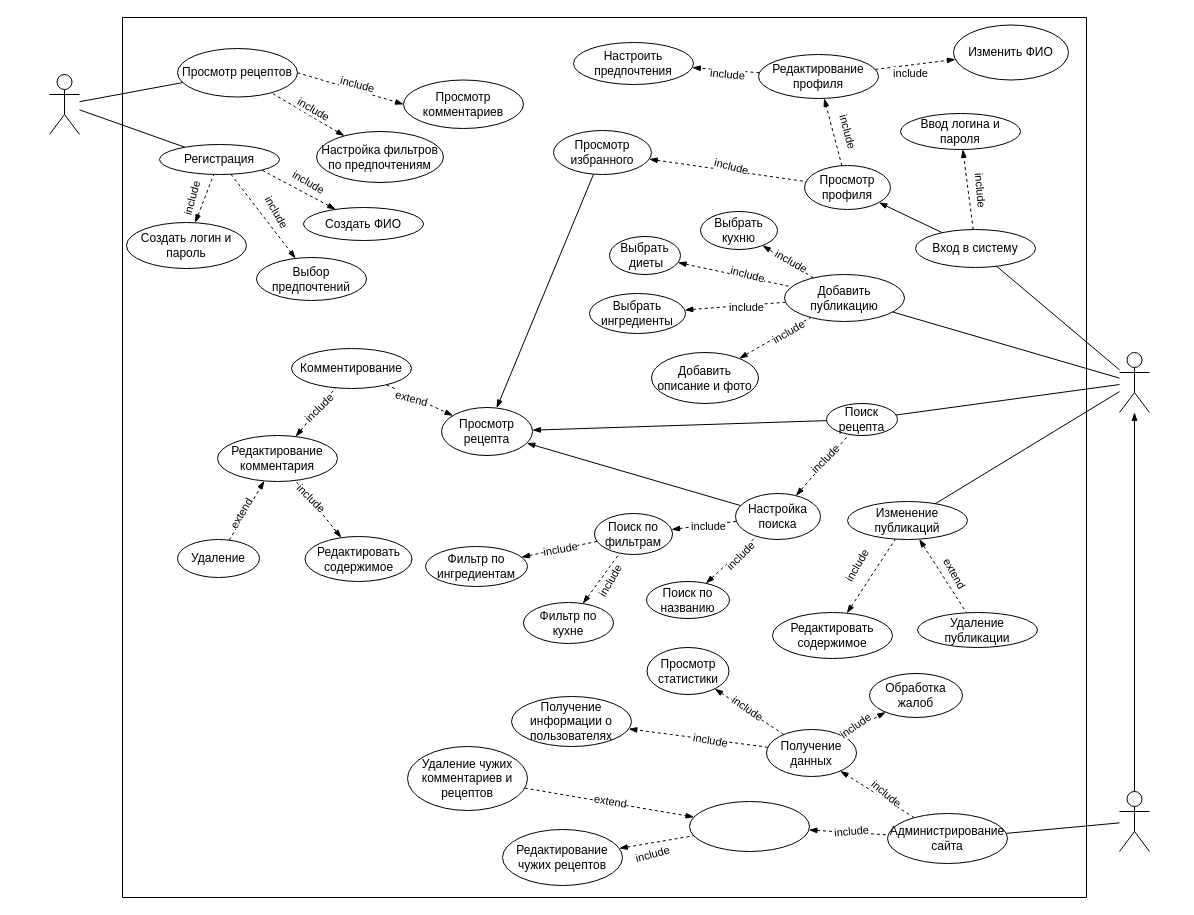
The diagram is 1194 pixels wide and 915 high, and some of its shapes have lost their labels. The centre of each missing label's shape, as x and y in pixels:
"Administrator" goes at point (1134, 821).
"Registered user" goes at point (1134, 382).
"Unregistered user" goes at point (64, 104).
"Редактирование данных" goes at point (749, 826).
